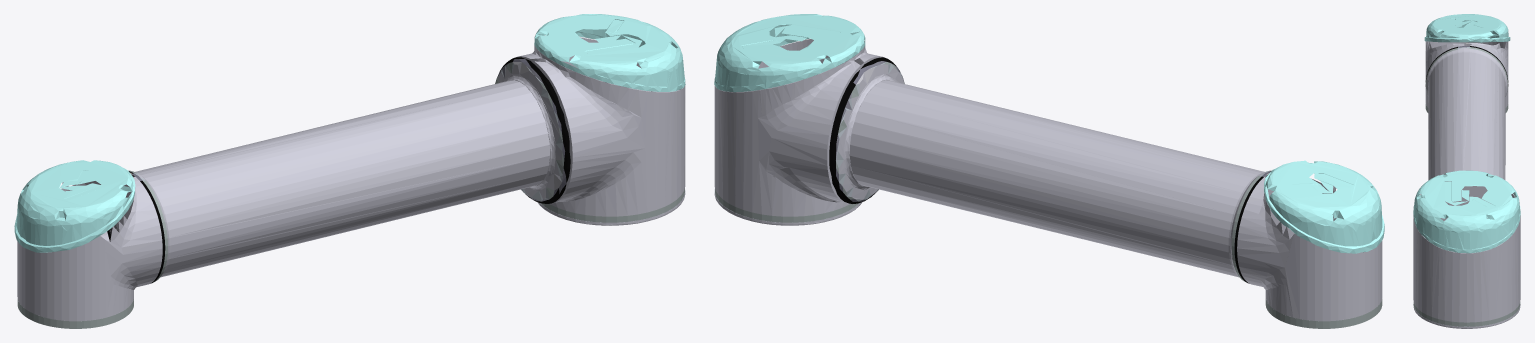
The picture shows the model from 3 angles, left to right: view 1: azimuth 30°, elevation 25°; view 2: azimuth 150°, elevation 25°; view 3: azimuth 270°, elevation 25°; orthographic projection. The views are drawn at different scales.
Visible parts, largest first — view 1: UR10Link2; view 2: UR10Link2; view 3: UR10Link2.
Boxes of the visible parts, x1,y1,x2,y2 form: UR10Link2: (14,14,685,328); UR10Link2: (714,14,1384,328); UR10Link2: (1413,14,1520,328).
Size of the model in its own units: 0.7484 by 0.1505 by 0.1773.
